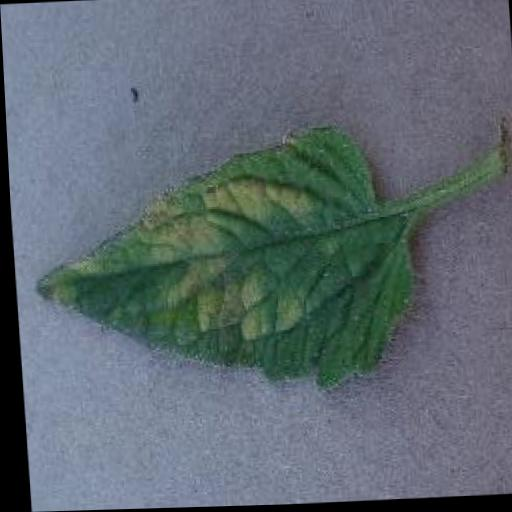Leaf Mold: (19, 128, 420, 402)
